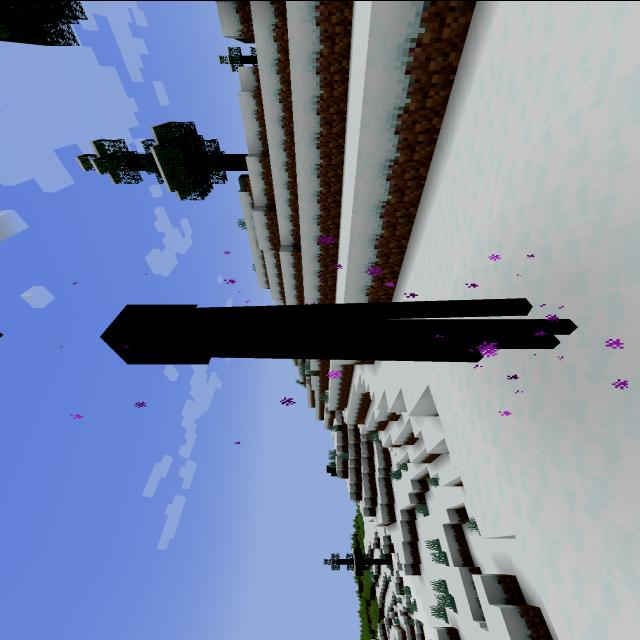Enderman: (91, 286, 590, 372)
